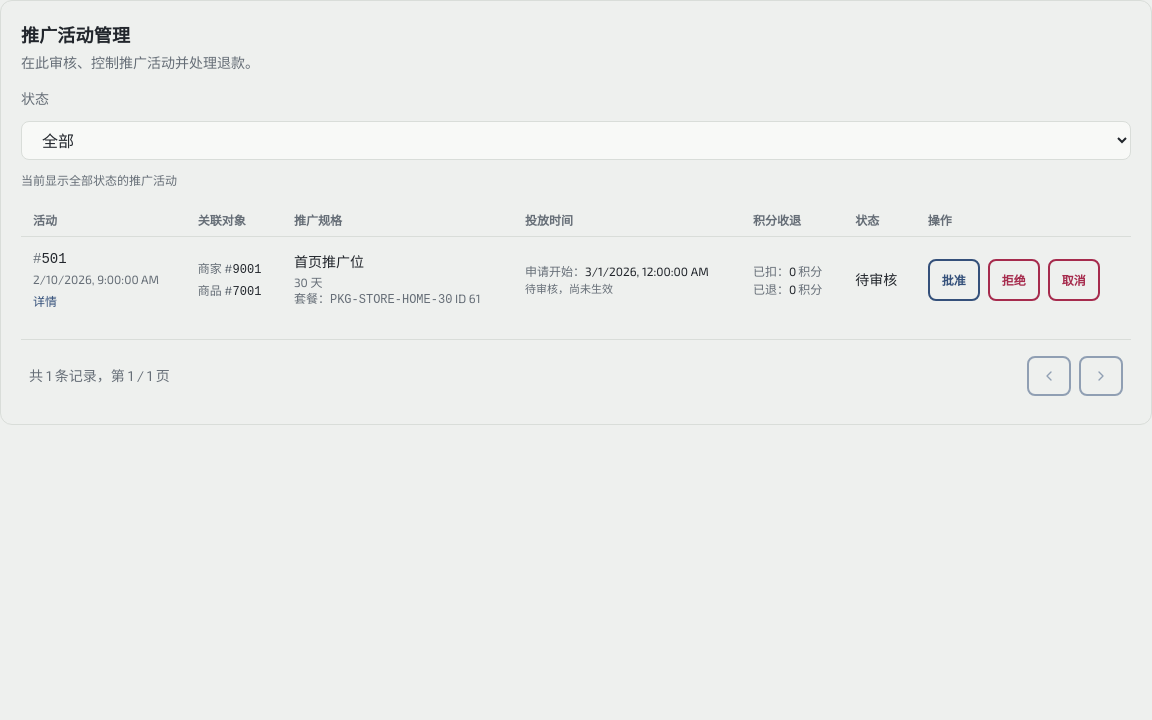
AdminPromotionCampaignManager (action visibility + approve/reject) › approve PLACEMENT_OCCUPIED keeps the dialog with the exact collision copy (no success, no refresh), then a retry on the same dialog succeeds and refreshes
Expected: the table named "推广活动列表" is shown, [21,204,1131,323]
Click the button with aria-label "批准推广活动（活动 ID 501）": (954, 280) [928,259,980,301]
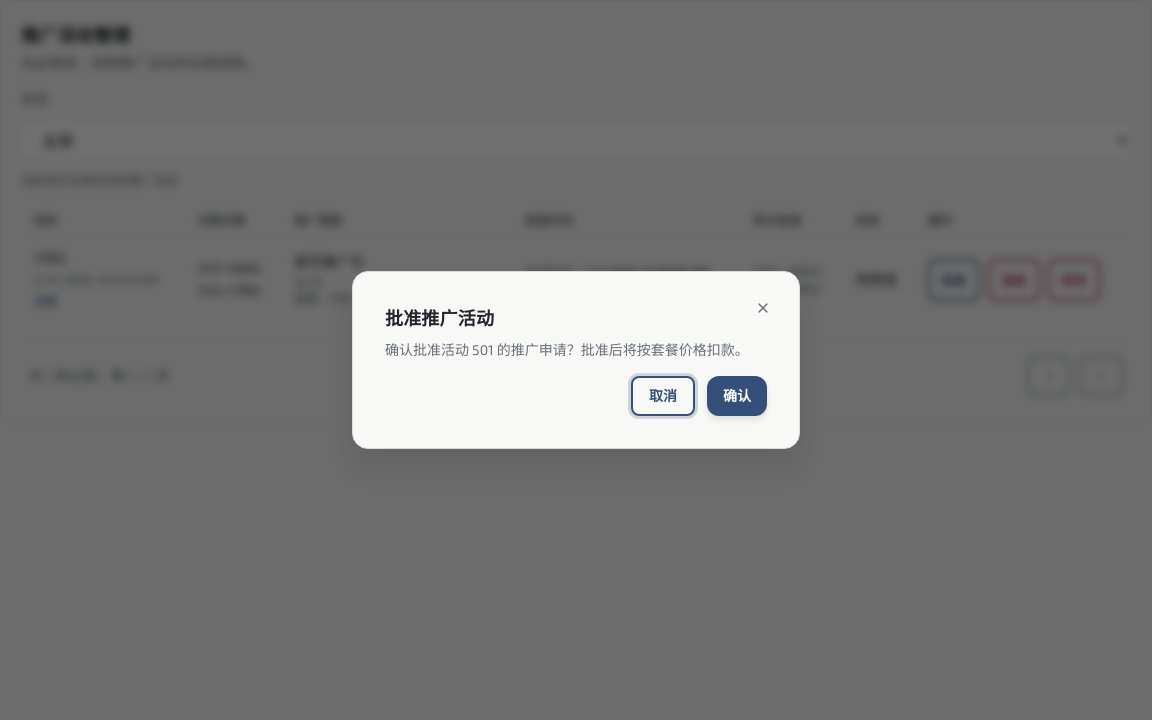
Click the button "确认": (737, 396) [707,376,767,416]
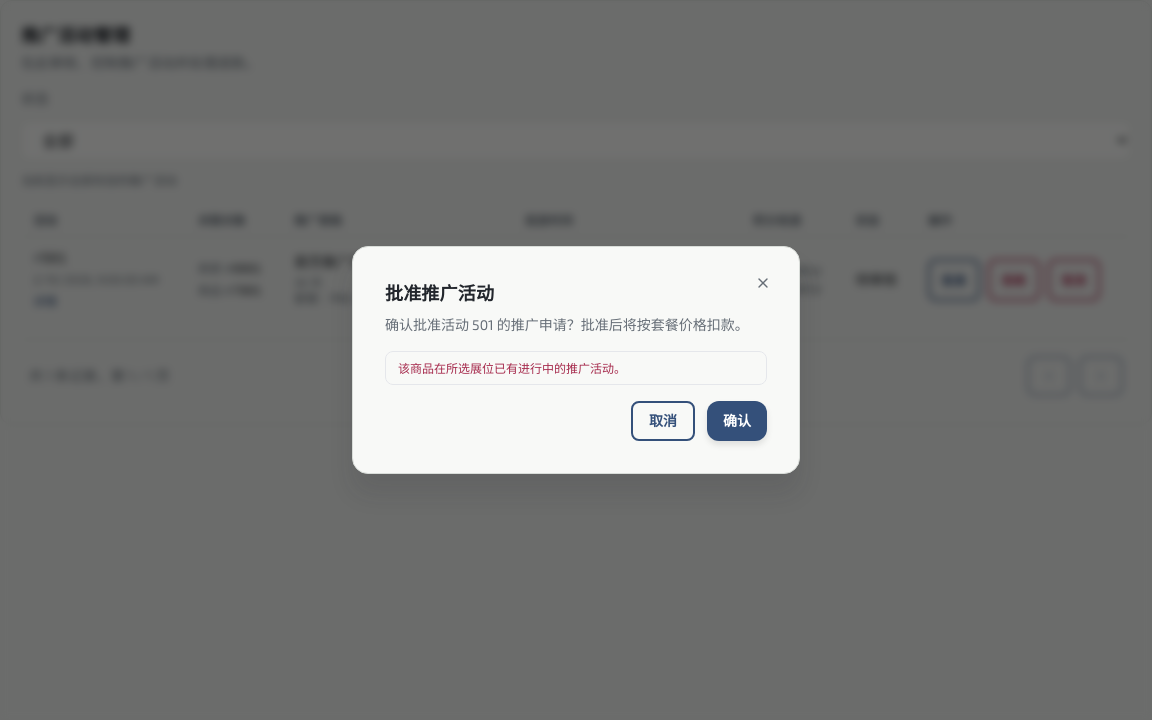
Result: the dialog "批准推广活动" is shown at [352,246,800,474]
Result: the text "该商品在所选展位已有进行中的推广活动。" is shown at [385,351,767,385]
Result: the message reads "该商品在所选展位已有进行中的推广活动。" at [398,361,626,375]
retry on the SAME dialog resolves the second approve → success
Click the button "确认": (737, 421) [707,401,767,441]
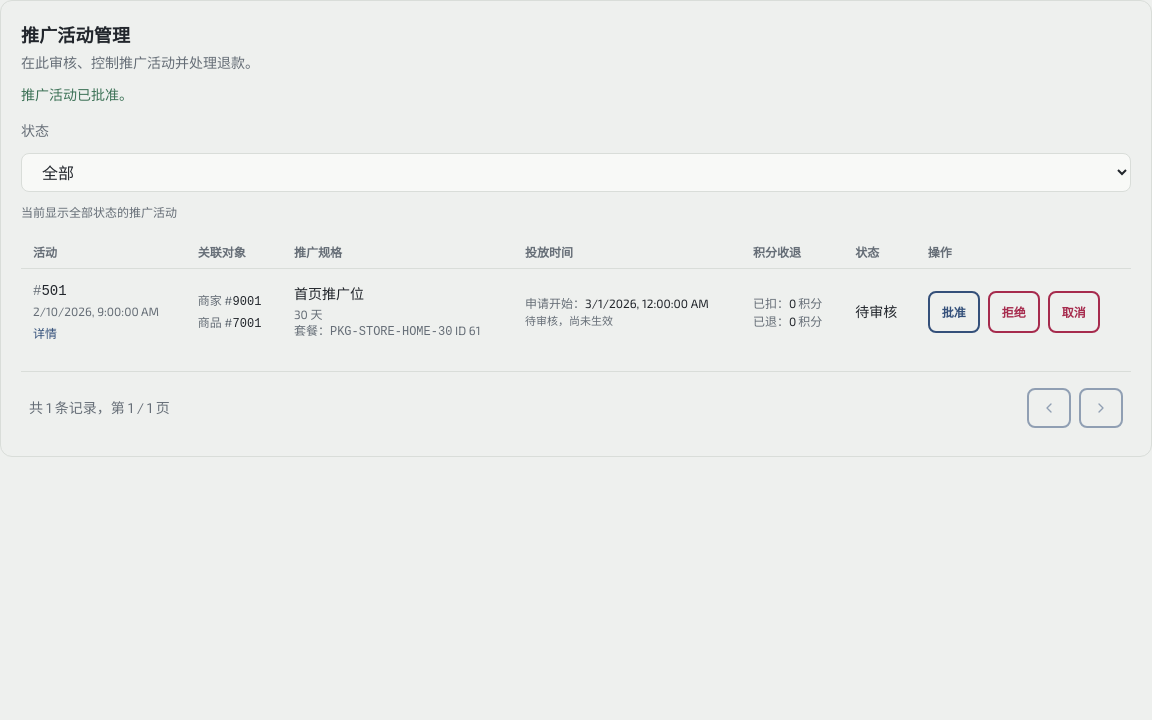
Expected: the table named "推广活动列表" is shown, [21,236,1131,355]
Result: the dialog is gone
